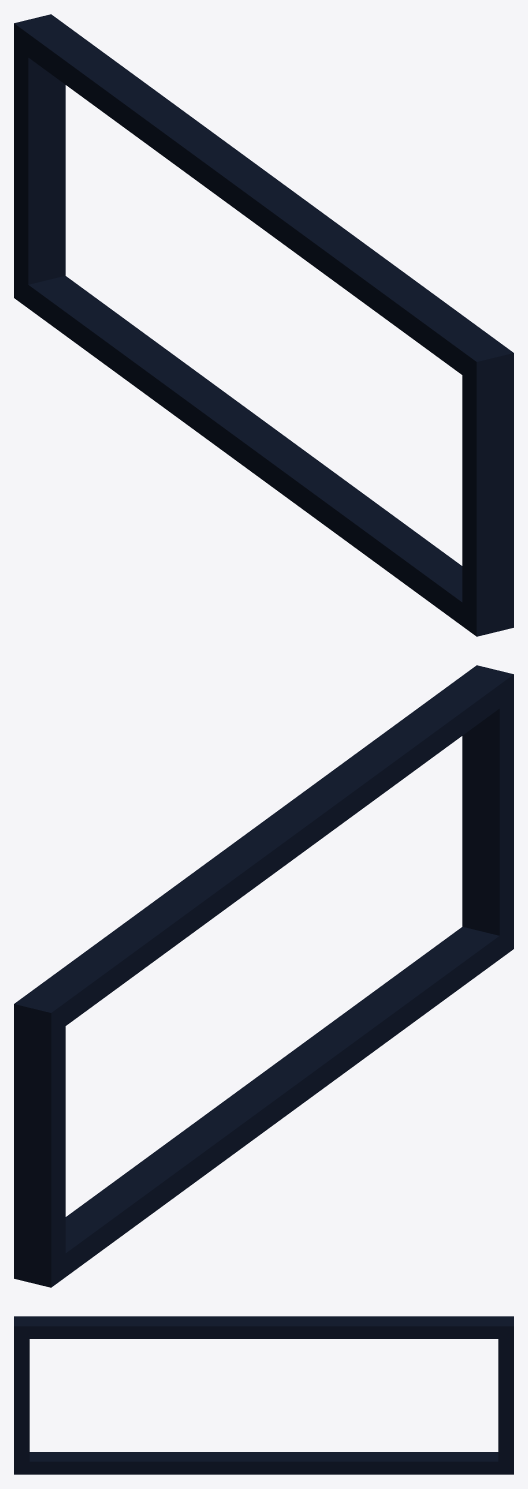
File: Window.fbx
3 renders of one model, top to bottom at view 1: azimuth 30°, elevation 25°; view 2: azimuth 150°, elevation 25°; view 3: azimuth 270°, elevation 25°, orthographic. The views are drawn at different scales.
Visible parts, largest first — view 1: Cube.001; view 2: Cube.001; view 3: Cube.001.
Boxes of the visible parts, box(x1,y1,x2,y2) form: Cube.001: box(14, 14, 513, 636); Cube.001: box(14, 665, 513, 1287); Cube.001: box(14, 1316, 513, 1474).
Bounding box in the file's own units: 11 × 77.67 × 237.
